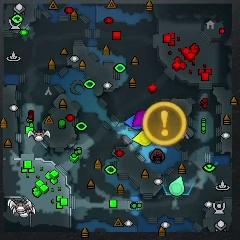Other: (143, 101, 187, 144)
p1: (123, 115, 141, 130)
p2: (169, 176, 185, 196)
p3: (132, 109, 148, 126)
p4: (132, 131, 151, 146)
